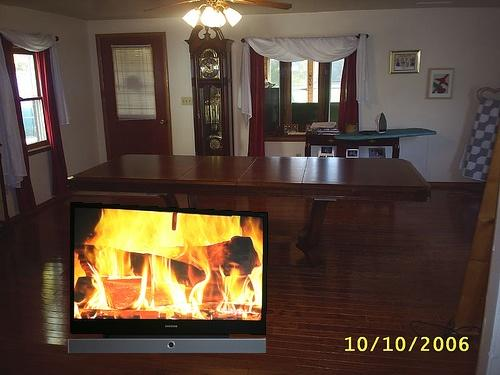tampered: (69, 203, 268, 353)
